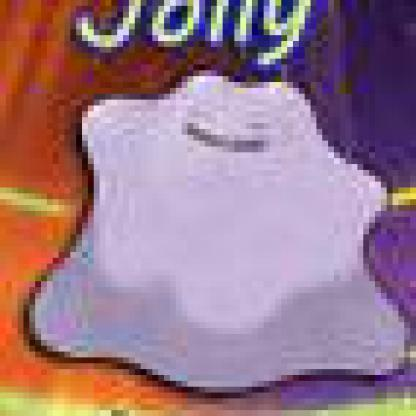Ditto: (1, 1, 411, 411)
